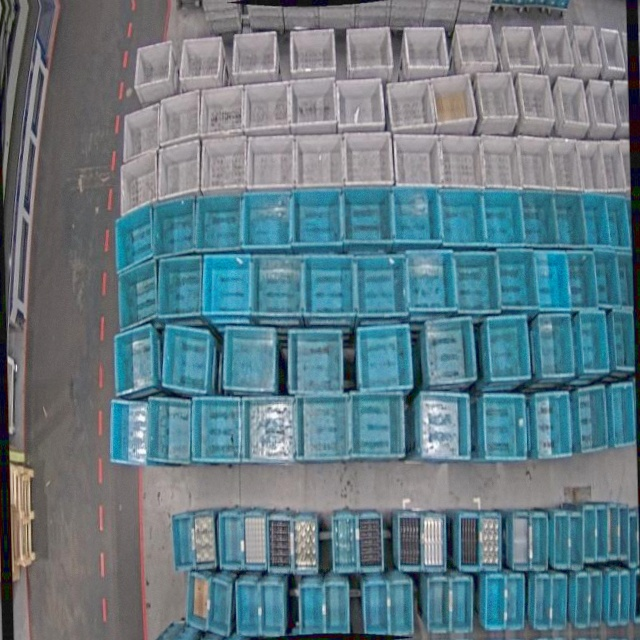Box: (287, 327, 345, 398), (221, 324, 278, 395), (356, 322, 413, 393), (243, 396, 299, 466), (249, 252, 305, 321), (347, 391, 403, 460), (160, 322, 212, 396), (299, 253, 356, 320), (418, 390, 471, 462), (191, 394, 243, 465), (425, 317, 476, 387), (352, 252, 406, 318), (199, 252, 252, 319), (142, 396, 192, 467), (289, 186, 344, 250), (299, 394, 350, 463), (155, 254, 205, 321), (242, 189, 294, 253), (339, 186, 392, 248), (406, 249, 457, 313), (198, 135, 248, 199), (150, 195, 199, 260), (390, 185, 441, 247), (193, 191, 243, 254), (481, 391, 526, 461), (116, 152, 163, 218), (247, 134, 297, 196), (484, 315, 530, 382), (454, 251, 501, 314), (117, 260, 158, 332), (106, 399, 150, 466), (436, 186, 484, 247), (114, 324, 153, 399), (157, 140, 204, 202), (294, 131, 345, 188), (335, 76, 386, 133), (386, 78, 438, 133), (343, 131, 394, 187), (392, 132, 442, 189), (114, 203, 154, 274), (287, 75, 337, 131), (243, 79, 293, 134), (532, 390, 573, 456), (197, 83, 246, 138), (497, 248, 538, 312), (156, 89, 201, 146), (455, 20, 500, 76), (481, 188, 523, 248), (431, 73, 478, 126), (439, 134, 484, 189), (537, 313, 575, 378), (120, 103, 160, 163), (481, 133, 523, 190), (532, 250, 569, 312), (499, 22, 542, 75), (519, 189, 556, 248), (516, 136, 554, 193), (577, 386, 609, 453), (568, 22, 606, 78), (547, 138, 584, 194), (346, 27, 394, 70), (477, 71, 519, 120), (289, 28, 336, 71), (578, 310, 609, 375), (132, 41, 174, 88), (552, 190, 586, 248), (178, 36, 223, 79), (231, 32, 277, 74), (574, 140, 609, 194), (518, 72, 556, 121), (406, 27, 449, 70), (565, 251, 596, 310), (610, 309, 637, 373), (289, 512, 316, 575), (582, 190, 611, 248), (557, 75, 589, 127), (333, 512, 360, 573), (216, 510, 243, 571), (592, 250, 620, 308), (267, 514, 294, 574), (599, 28, 628, 83), (242, 510, 268, 571), (191, 509, 217, 570), (396, 511, 422, 571), (613, 383, 637, 448), (170, 514, 196, 573), (357, 511, 382, 572), (207, 577, 232, 637), (362, 581, 389, 636), (539, 24, 574, 66), (589, 78, 617, 130), (235, 581, 261, 637), (421, 512, 445, 572), (185, 572, 209, 632), (298, 582, 325, 634), (390, 582, 415, 638), (426, 578, 451, 634), (458, 511, 481, 571), (450, 577, 474, 634), (601, 140, 627, 192), (606, 194, 631, 248), (480, 510, 502, 571), (261, 585, 285, 640), (325, 584, 350, 634), (510, 510, 531, 569), (485, 575, 507, 631), (533, 574, 554, 631), (505, 572, 525, 631), (531, 511, 550, 569), (550, 573, 569, 630), (568, 512, 585, 571), (573, 572, 590, 629), (582, 503, 598, 562), (555, 509, 571, 567), (588, 571, 604, 628), (595, 502, 610, 561), (607, 503, 622, 560), (607, 571, 622, 627), (618, 504, 632, 562), (617, 571, 631, 625), (614, 80, 629, 128), (627, 511, 639, 568), (619, 138, 630, 192), (633, 571, 640, 623)
